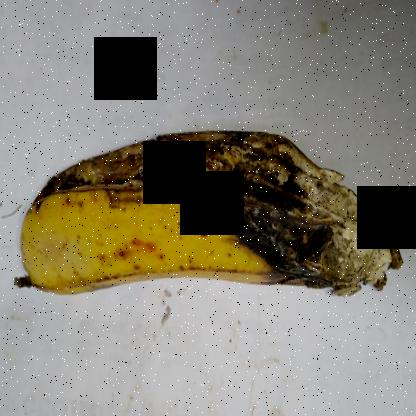rotten: (22, 91, 315, 229), (215, 116, 393, 316)
